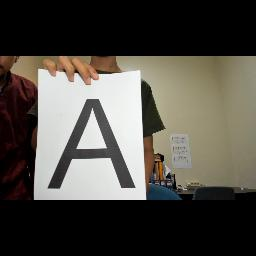a: (46, 93, 138, 197)
